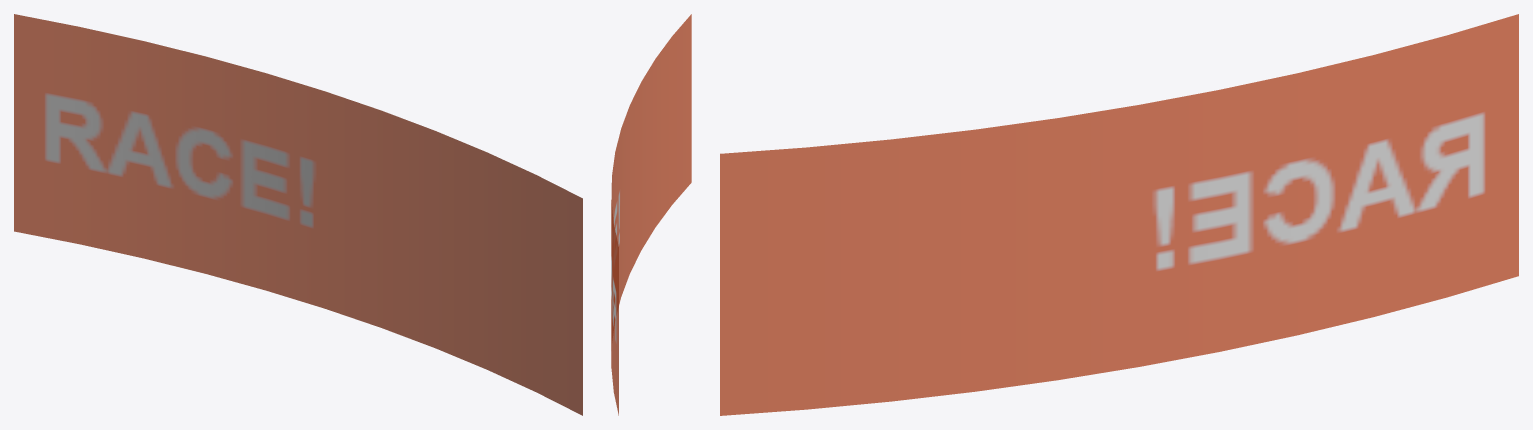
The model's file is race.glb.
3 views of the same model, side by side, from view 1: azimuth 30°, elevation 25°; view 2: azimuth 150°, elevation 25°; view 3: azimuth 270°, elevation 25° (orthographic). The views are drawn at different scales.
Parts seen in each view (by area): view 1: menu_3_race; view 2: menu_3_race; view 3: menu_3_race.
Part boxes in pixels (bbox=[...]): menu_3_race: bbox=[14, 14, 582, 415]; menu_3_race: bbox=[611, 14, 691, 415]; menu_3_race: bbox=[720, 14, 1518, 415].
Bounding box in the file's own units: 1.35 × 1.18 × 3.25.
Materials: 1 (1 with a texture image).
